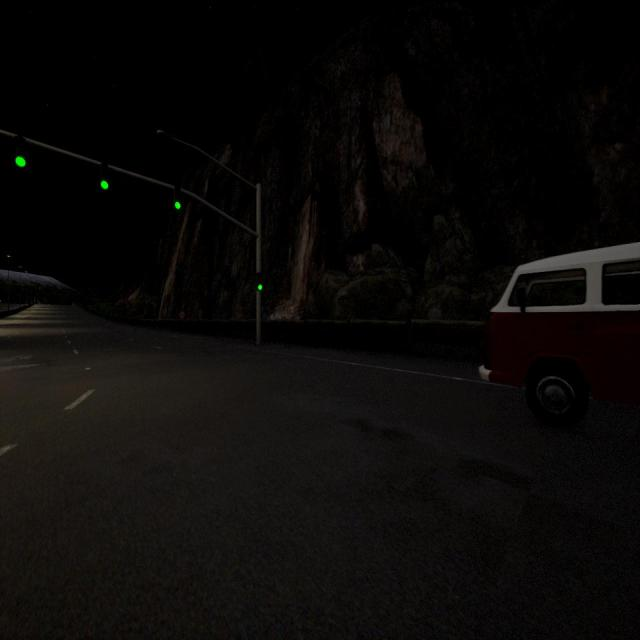Traffic_Signs: (179, 311, 185, 319)
Vehicle: (479, 242, 639, 424)
traffic_light: (15, 136, 26, 168), (100, 161, 109, 190), (174, 185, 181, 210), (256, 272, 263, 291)
